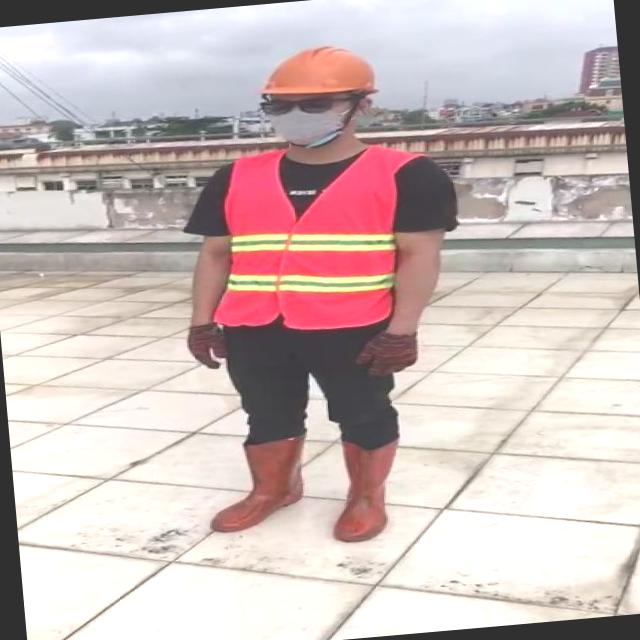boots: (200, 432, 315, 534), (323, 434, 407, 542)
gloves: (170, 304, 254, 387), (341, 300, 414, 390)
helmet: (258, 37, 388, 104)
vest: (205, 145, 408, 336)
